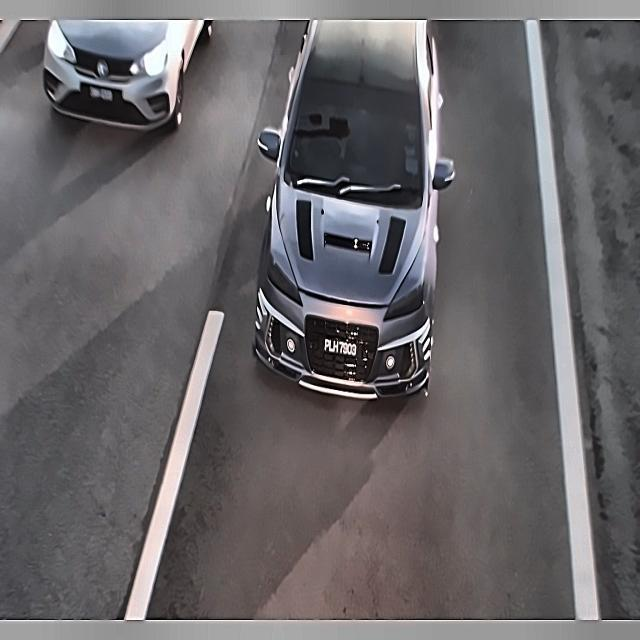car: (319, 323, 366, 377), (81, 77, 124, 112)
